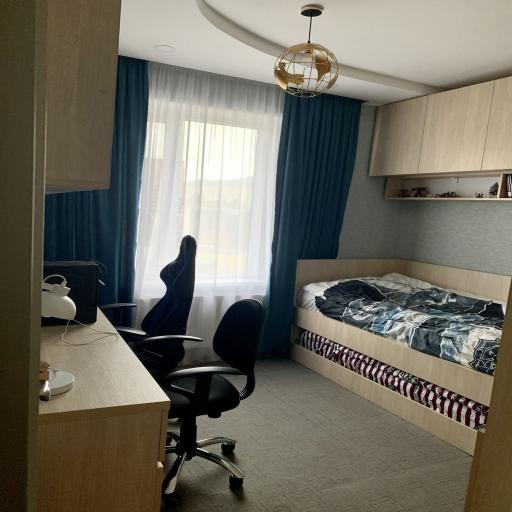bus: (162, 300, 264, 503), (100, 236, 196, 369)
person: (291, 260, 511, 455)
road: (382, 171, 504, 204)
stroller: (38, 323, 168, 511)
